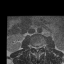CCS_normal: (36, 44, 38, 53)
LFS_normal: (40, 44, 42, 49)
LLS_normal: (38, 44, 40, 51)
RFS_normal: (32, 43, 34, 49)
RLS_normal: (34, 44, 36, 51)
